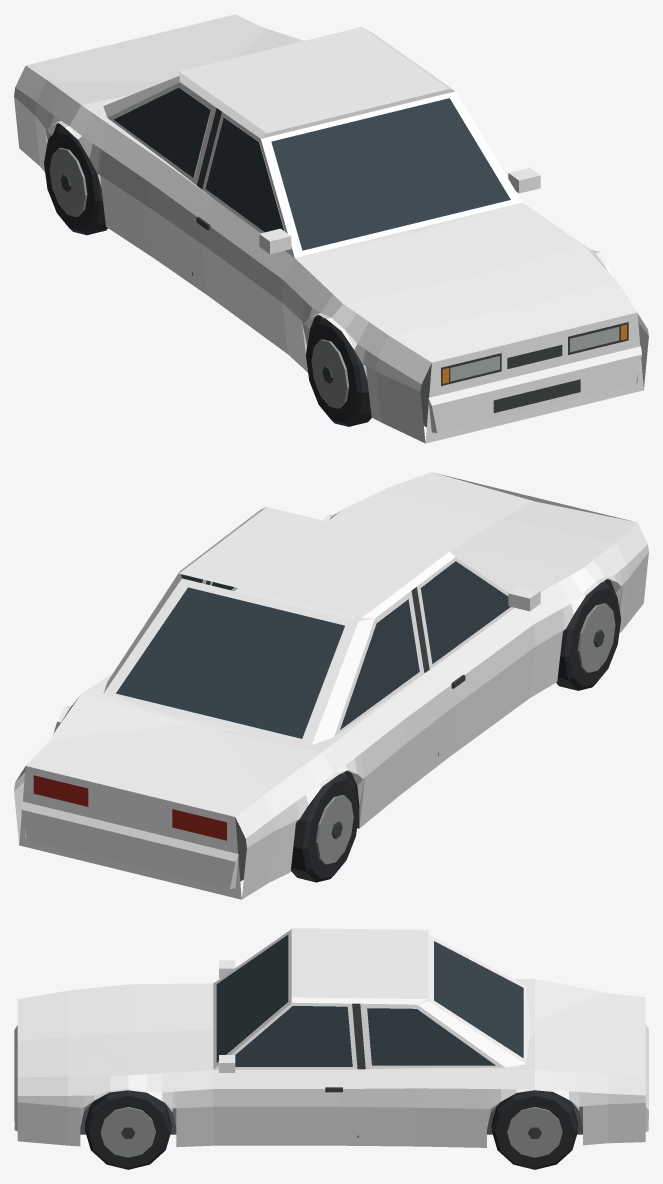
Rendered from vorhaus_specht.glb.
3 views of the same model, one above another, from view 1: azimuth 30°, elevation 25°; view 2: azimuth 150°, elevation 25°; view 3: azimuth 270°, elevation 25° (orthographic). The views are drawn at different scales.
Visible parts, largest first — view 1: vorhaus_specht; view 2: vorhaus_specht; view 3: vorhaus_specht.
Boxes of the visible parts, left/top/right/bottom form: vorhaus_specht: left=14, top=14, right=648, bottom=443; vorhaus_specht: left=14, top=472, right=648, bottom=899; vorhaus_specht: left=14, top=928, right=648, bottom=1169.
Bounding box in the file's own units: 1.79 × 1.27 × 4.62.
8 materials, 1 textured.
